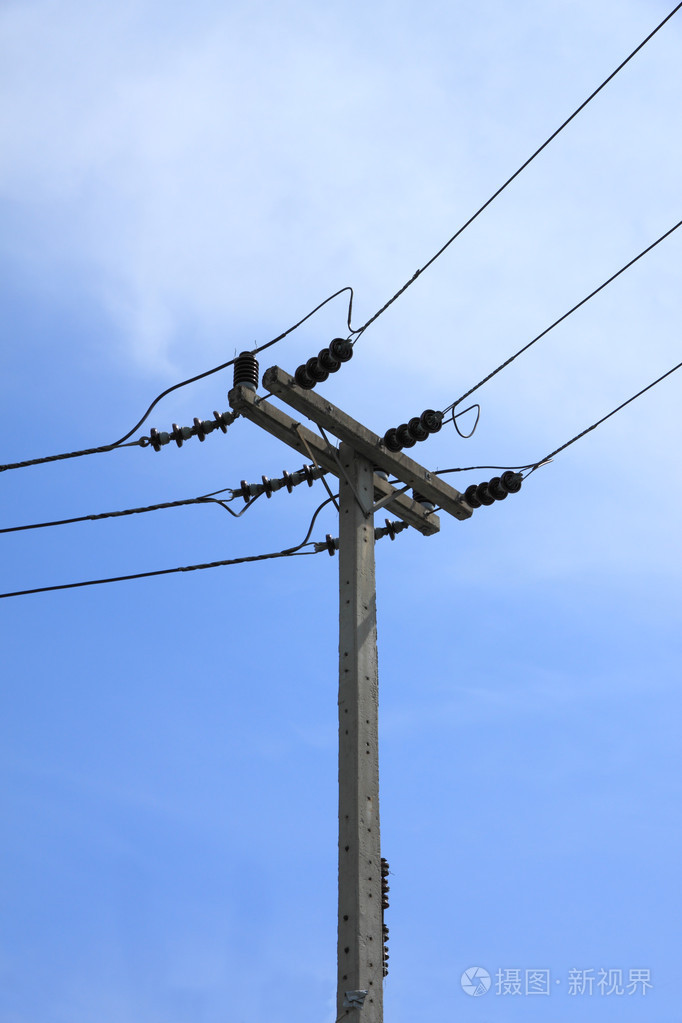insulator: (142, 408, 228, 451), (238, 460, 316, 507), (289, 333, 354, 388), (321, 516, 399, 556), (461, 468, 526, 513), (380, 405, 444, 450)
